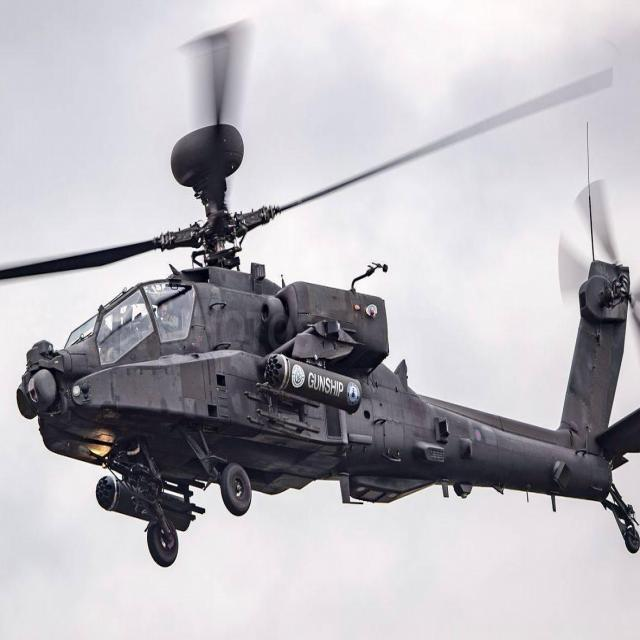MIL_HELO: (10, 16, 640, 586)
